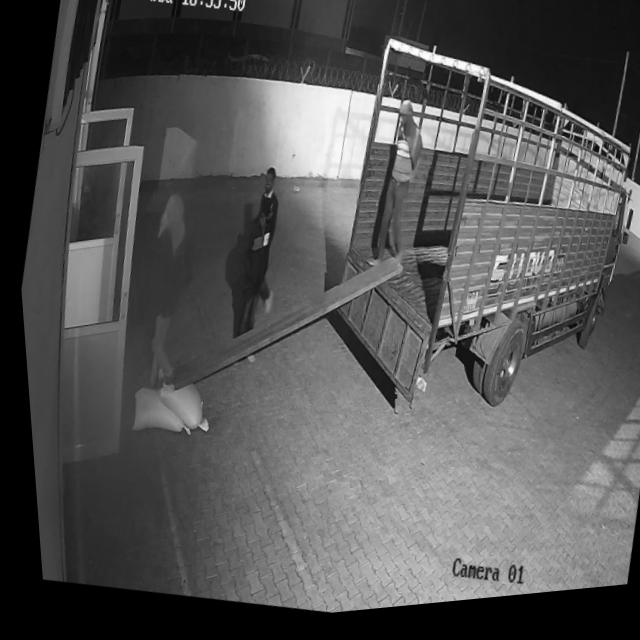sack: (119, 382, 191, 444), (144, 378, 210, 439)
